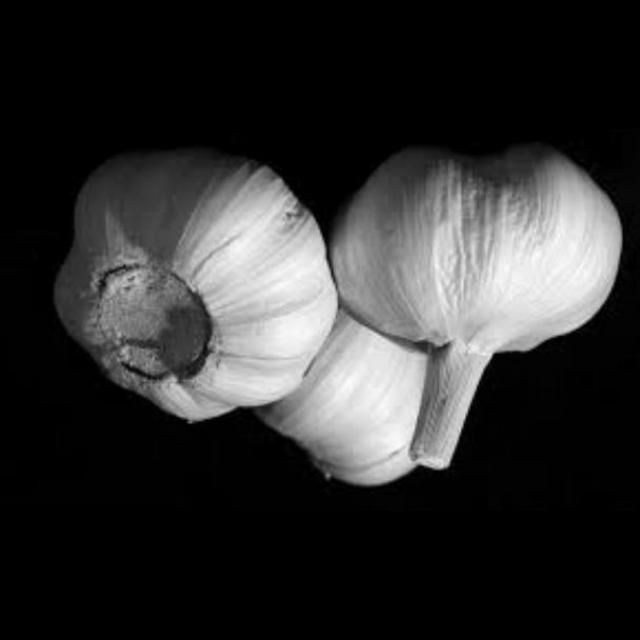garlic: (335, 144, 625, 477), (52, 152, 333, 427), (264, 308, 450, 492)
